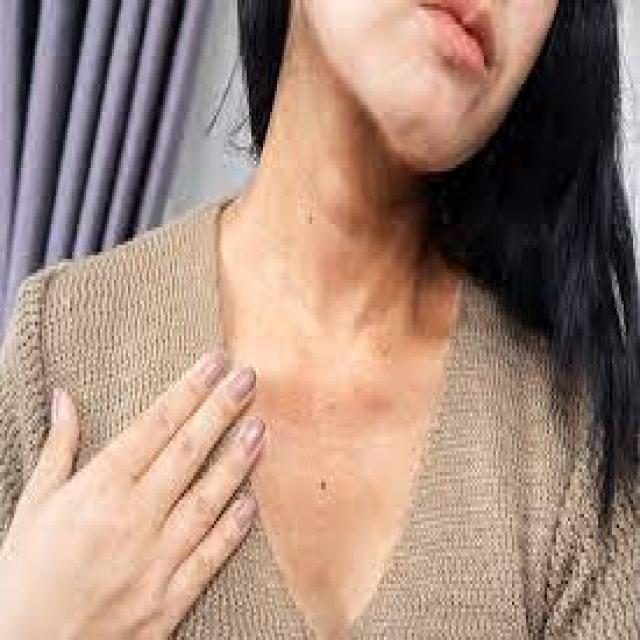Acanthosis Nigricans: (238, 112, 436, 370)
